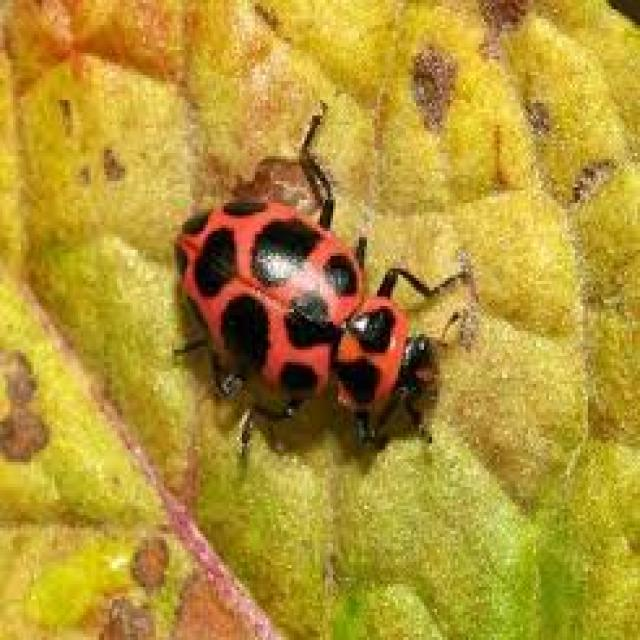bug: (170, 101, 473, 480)
